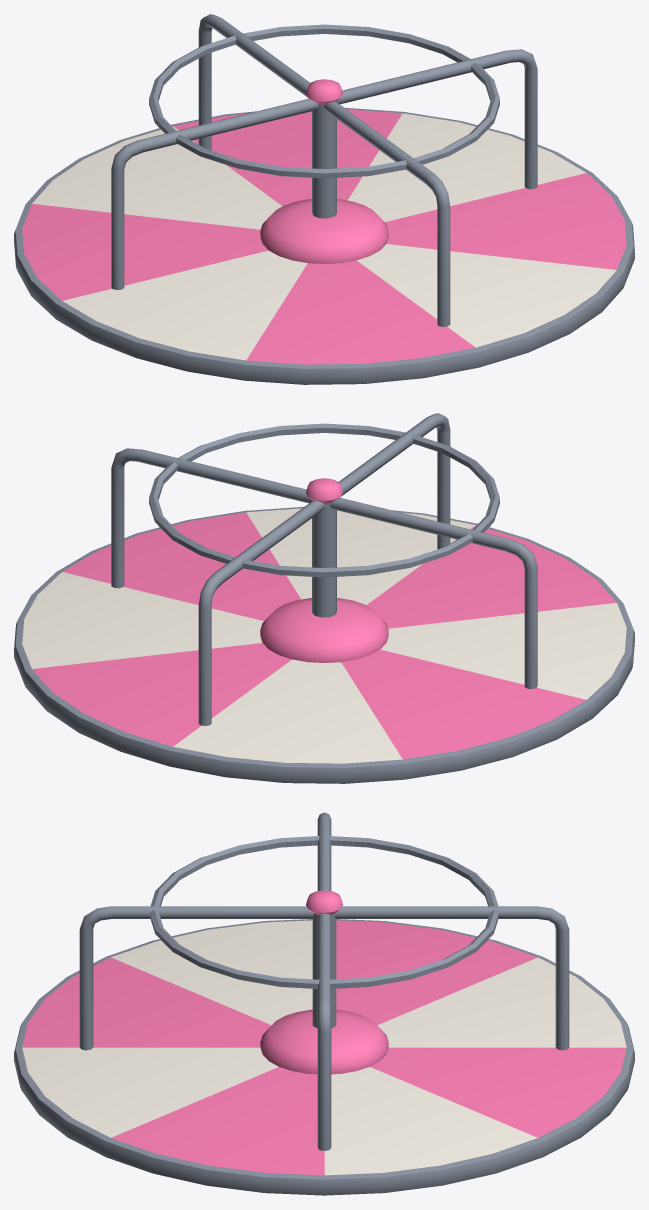
File: MerryGoRound.fbx
3 views of the same model, one above another, from view 1: azimuth 30°, elevation 25°; view 2: azimuth 150°, elevation 25°; view 3: azimuth 270°, elevation 25° (orthographic).
Parts seen in each view (by area): view 1: MerryGoRound; view 2: MerryGoRound; view 3: MerryGoRound.
Part boxes in pixels (bbox=[...]): MerryGoRound: bbox=[14, 14, 634, 384]; MerryGoRound: bbox=[14, 413, 634, 783]; MerryGoRound: bbox=[14, 812, 634, 1195].
Bounding box in the file's own units: 6 × 1.99 × 6.
